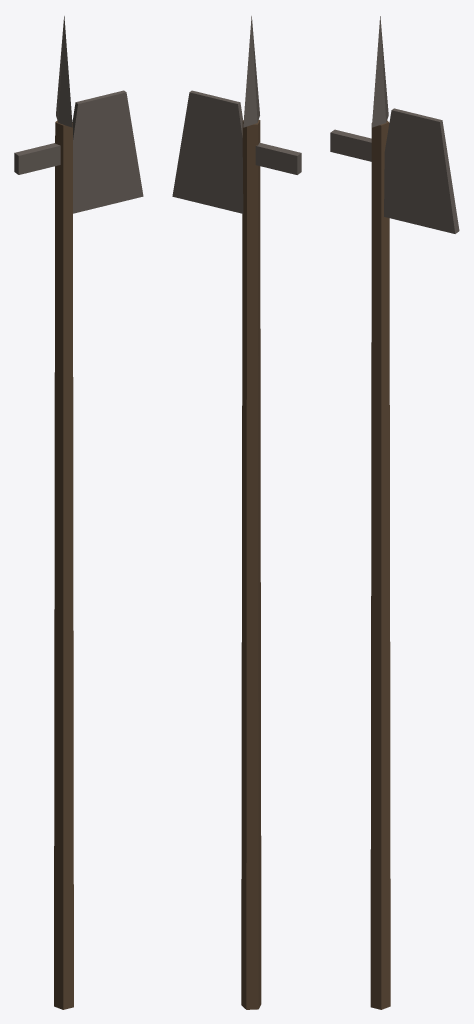
The model's file is w_halberd.glb.
3 views of the same model, side by side, from view 1: azimuth 30°, elevation 25°; view 2: azimuth 150°, elevation 25°; view 3: azimuth 330°, elevation 25° (orthographic).
Visible parts, largest first — view 1: w_halberd; view 2: w_halberd; view 3: w_halberd.
Boxes of the visible parts, x1,y1,x2,y2 form: w_halberd: [14, 16, 143, 1009]; w_halberd: [172, 16, 301, 1009]; w_halberd: [330, 16, 459, 1009].
Size of the model in its own units: 0.34 by 2.58 by 0.08.
